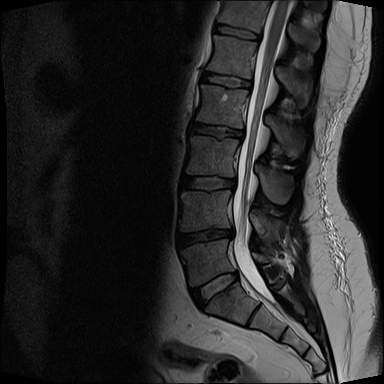Lumbar Disc Bulge (LDB): (187, 267, 245, 315), (171, 220, 239, 252), (185, 120, 250, 142)
Normal IVD: (196, 69, 255, 94), (174, 173, 240, 193), (209, 20, 264, 44)
Spinal Stenosis (SS): (225, 264, 241, 289), (231, 121, 248, 144), (222, 221, 240, 240)
